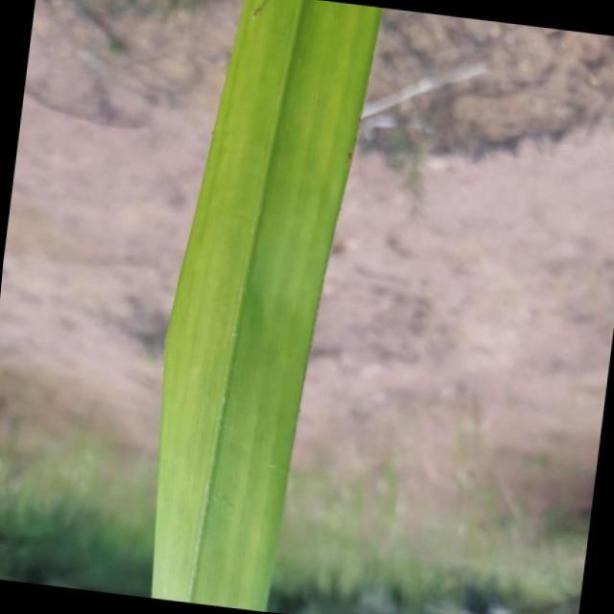nitrogen: (144, 0, 382, 614)
